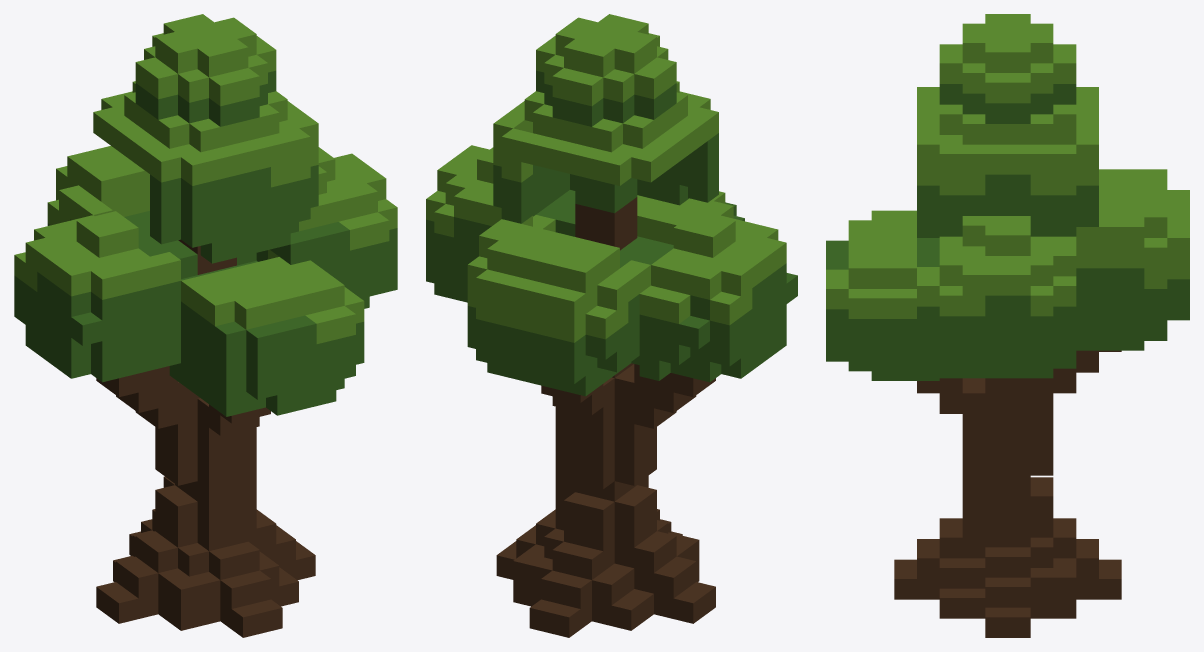
Rendered from tree_0_standard_oak.glb.
3 views of the same model, side by side, from view 1: azimuth 30°, elevation 25°; view 2: azimuth 150°, elevation 25°; view 3: azimuth 270°, elevation 25° (orthographic).
Parts seen in each view (by area): view 1: tree_oak_var_0_standard_oak_L, tree_oak_var_0_standard_oak_D, tree_oak_var_0_standard_oak_W; view 2: tree_oak_var_0_standard_oak_L, tree_oak_var_0_standard_oak_W, tree_oak_var_0_standard_oak_D; view 3: tree_oak_var_0_standard_oak_L, tree_oak_var_0_standard_oak_D, tree_oak_var_0_standard_oak_W.
Part boxes in pixels (x1,y1,x2,y2): tree_oak_var_0_standard_oak_L: (14, 14, 397, 343); tree_oak_var_0_standard_oak_D: (14, 70, 397, 416); tree_oak_var_0_standard_oak_W: (96, 239, 315, 637); tree_oak_var_0_standard_oak_L: (426, 14, 786, 342); tree_oak_var_0_standard_oak_W: (496, 197, 715, 637); tree_oak_var_0_standard_oak_D: (426, 70, 797, 396); tree_oak_var_0_standard_oak_L: (826, 14, 1189, 318); tree_oak_var_0_standard_oak_D: (826, 84, 1189, 380); tree_oak_var_0_standard_oak_W: (894, 350, 1121, 637).
Size of the model in its own units: 2.4 by 4.05 by 2.4.
